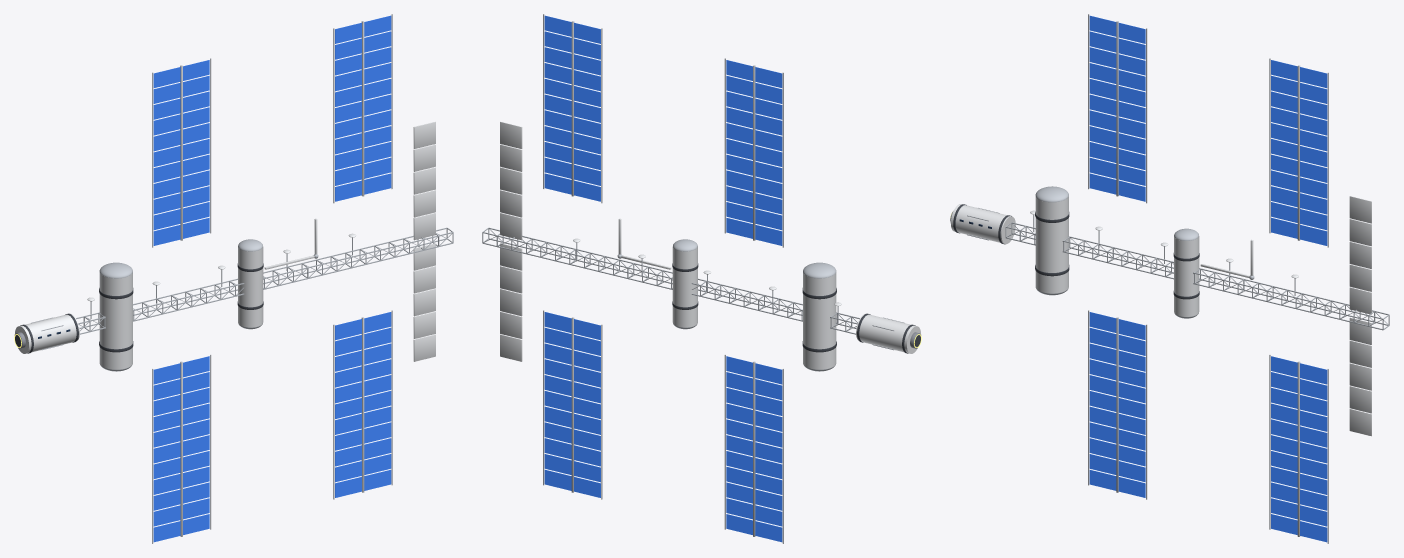
File: station.glb
3 views of the same model, side by side, from view 1: azimuth 30°, elevation 25°; view 2: azimuth 150°, elevation 25°; view 3: azimuth 330°, elevation 25° (orthographic).
Parts seen in each view (by area): view 1: array_86_1, array_86_-1, array_36_-1, array_36_1, truss, lab, radiator_1, radiator_-1, hab, node; view 2: array_86_1, array_86_-1, array_36_-1, array_36_1, truss, lab, radiator_1, radiator_-1, hab, node; view 3: array_86_-1, array_86_1, array_36_1, array_36_-1, truss, lab, radiator_1, radiator_-1, hab, node.
Boxes of the visible parts, x1=… form: array_86_1: x1=333, y1=14, x2=392, y2=203; array_86_-1: x1=333, y1=310, x2=392, y2=499; array_36_-1: x1=152, y1=354, x2=211, y2=543; array_36_1: x1=152, y1=58, x2=211, y2=247; truss: x1=76, y1=227, x2=453, y2=334; lab: x1=99, y1=273, x2=132, y2=369; radiator_1: x1=413, y1=121, x2=435, y2=240; radiator_-1: x1=413, y1=243, x2=435, y2=361; hab: x1=238, y1=246, x2=263, y2=327; node: x1=14, y1=313, x2=79, y2=353; array_86_1: x1=543, y1=14, x2=602, y2=203; array_86_-1: x1=543, y1=310, x2=602, y2=499; array_36_-1: x1=724, y1=354, x2=783, y2=543; array_36_1: x1=724, y1=58, x2=783, y2=247; truss: x1=482, y1=227, x2=859, y2=334; lab: x1=803, y1=273, x2=836, y2=369; radiator_1: x1=500, y1=121, x2=522, y2=240; radiator_-1: x1=500, y1=243, x2=522, y2=361; hab: x1=672, y1=246, x2=697, y2=327; node: x1=856, y1=313, x2=921, y2=353; array_86_-1: x1=1269, y1=354, x2=1328, y2=543; array_86_1: x1=1269, y1=58, x2=1328, y2=247; array_36_1: x1=1088, y1=14, x2=1147, y2=203; array_36_-1: x1=1088, y1=310, x2=1147, y2=499; truss: x1=1005, y1=222, x2=1389, y2=330; lab: x1=1035, y1=196, x2=1068, y2=293; radiator_1: x1=1349, y1=196, x2=1371, y2=314; radiator_-1: x1=1349, y1=317, x2=1371, y2=436; hab: x1=1174, y1=235, x2=1199, y2=316; node: x1=950, y1=204, x2=1015, y2=244.
Size of the model in its own units: 119 by 124 by 8.2.
